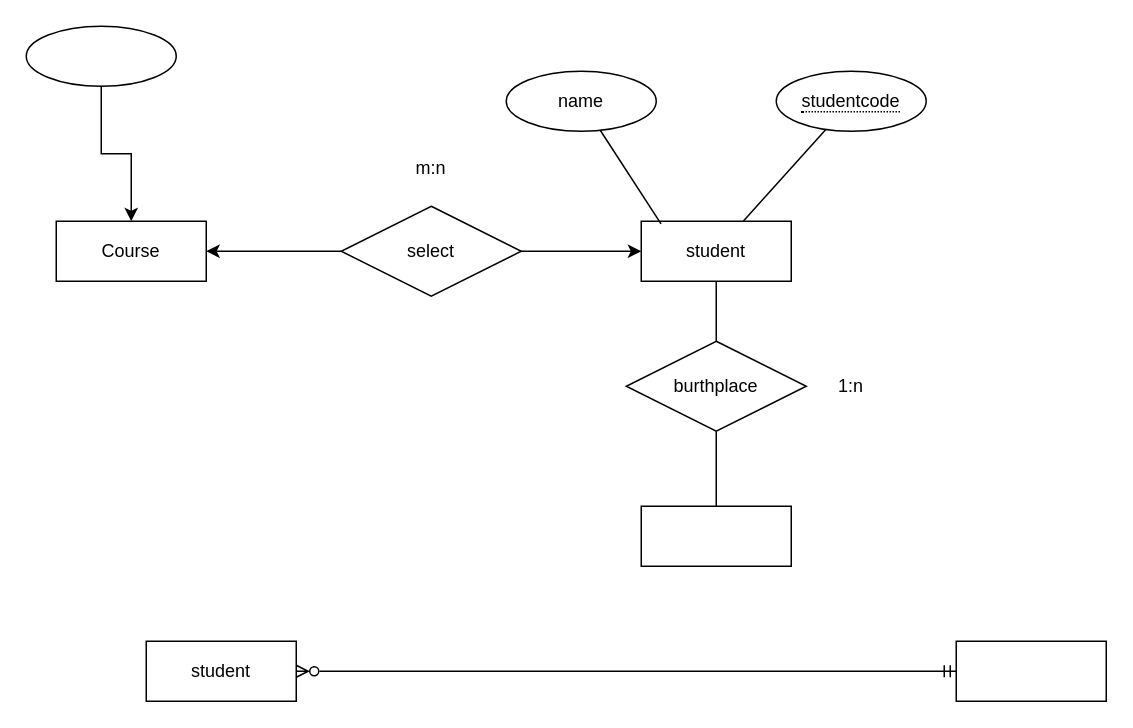
The diagram is 1133 pixels wide and 728 high, and some of its shapes have lost their labels. The box of each missing label's shape, as (x1, y1, x2, y2) in pixels:
Ciry: (640, 505, 791, 566)
city: (955, 640, 1106, 701)
code: (25, 25, 176, 86)
